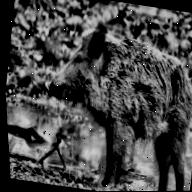boar: (12, 4, 192, 192)
